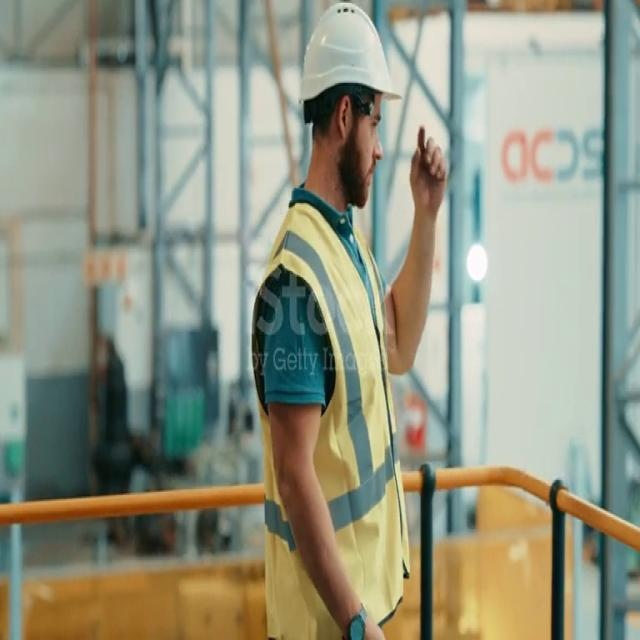capacete: (294, 0, 414, 121)
